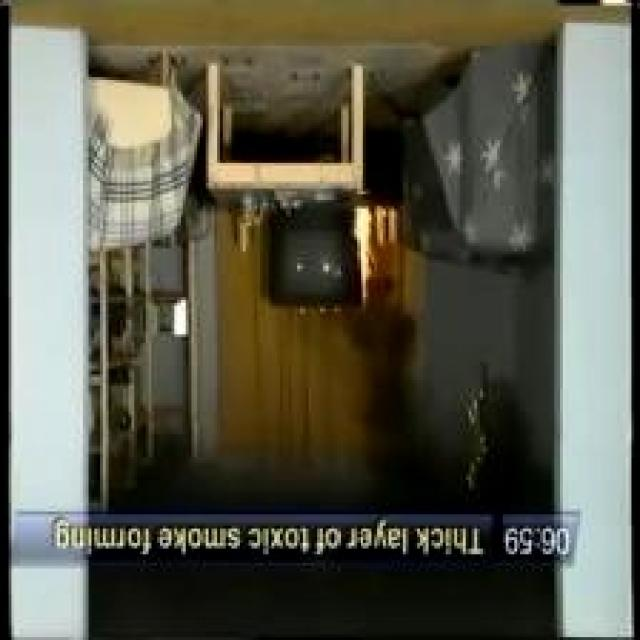fire: (346, 213, 408, 324)
